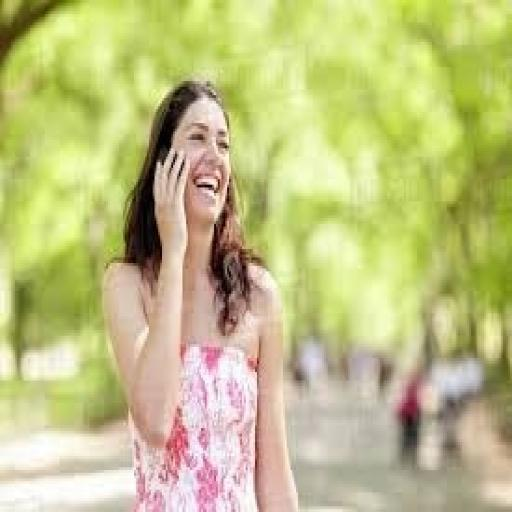laughing: (97, 73, 303, 509)
